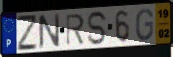6: (114, 9, 132, 44)
G: (135, 8, 155, 42)
N: (37, 12, 61, 51)
R: (65, 13, 86, 47)
S: (86, 10, 109, 47)
Z: (15, 15, 39, 53)
